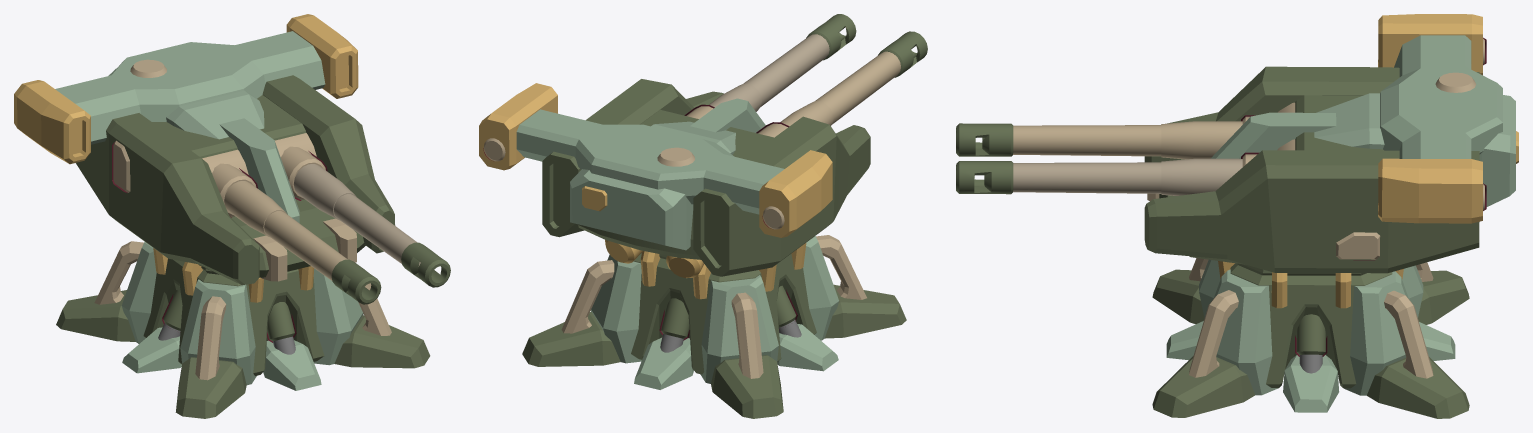
The model's file is Heavy_Evo3_.fbx.
3 views of the same model, side by side, from view 1: azimuth 30°, elevation 25°; view 2: azimuth 150°, elevation 25°; view 3: azimuth 270°, elevation 25° (orthographic). The views are drawn at different scales.
Parts seen in each view (by area): view 1: body3.003, body3.005, body3.001, largebase1.055, body3.007, body3.002, body3.047, body3.050, largebase1.064, body3.008, largebase1.023, body3.006 (+22 smaller); view 2: body3.005, body3.003, body3.004, largebase1.055, body3.001, largebase1.061, body3.007, largebase1.058, largebase1.060, largebase1.063, body3.050, body3.047 (+20 smaller); view 3: body3.001, body3.005, body3.047, body3.050, largebase1.055, body3.006, body3.003, body3.004, largebase1.056, largebase1.058, largebase1.023, largebase1.060 (+19 smaller).
Part boxes in pixels (x1=…): body3.003: x1=76, y1=113, x2=259, y2=285; body3.005: x1=55, y1=31, x2=325, y2=144; body3.001: x1=262, y1=75, x2=395, y2=253; largebase1.055: x1=143, y1=258, x2=324, y2=375; body3.007: x1=14, y1=80, x2=90, y2=164; body3.002: x1=152, y1=95, x2=365, y2=277; body3.047: x1=293, y1=164, x2=420, y2=266; body3.050: x1=224, y1=181, x2=347, y2=280; largebase1.064: x1=180, y1=279, x2=256, y2=385; body3.008: x1=219, y1=118, x2=299, y2=223; largebase1.023: x1=334, y1=315, x2=430, y2=368; body3.006: x1=286, y1=14, x2=358, y2=98; body3.005: x1=516, y1=109, x2=784, y2=214; body3.003: x1=693, y1=116, x2=870, y2=276; body3.004: x1=570, y1=121, x2=735, y2=250; largebase1.055: x1=631, y1=253, x2=816, y2=374; body3.001: x1=542, y1=79, x2=723, y2=237; largebase1.061: x1=700, y1=275, x2=778, y2=383; body3.007: x1=759, y1=150, x2=832, y2=237; largebase1.058: x1=590, y1=254, x2=641, y2=363; largebase1.060: x1=522, y1=312, x2=620, y2=366; largebase1.063: x1=711, y1=355, x2=783, y2=418; body3.050: x1=780, y1=51, x2=900, y2=126; body3.047: x1=709, y1=34, x2=829, y2=111; body3.001: x1=1144, y1=150, x2=1479, y2=273; body3.005: x1=1380, y1=35, x2=1502, y2=158; body3.047: x1=1013, y1=158, x2=1242, y2=195; body3.050: x1=1013, y1=121, x2=1242, y2=159; largebase1.055: x1=1230, y1=263, x2=1392, y2=388; body3.006: x1=1378, y1=158, x2=1482, y2=223; body3.003: x1=1144, y1=66, x2=1479, y2=162; body3.004: x1=1314, y1=93, x2=1515, y2=206; largebase1.056: x1=1214, y1=269, x2=1277, y2=395; largebase1.058: x1=1344, y1=271, x2=1408, y2=395; largebase1.023: x1=1152, y1=356, x2=1254, y2=417; largebase1.060: x1=1367, y1=357, x2=1469, y2=418.
Bounding box in the file's own units: 1913 × 1417 × 2770.
